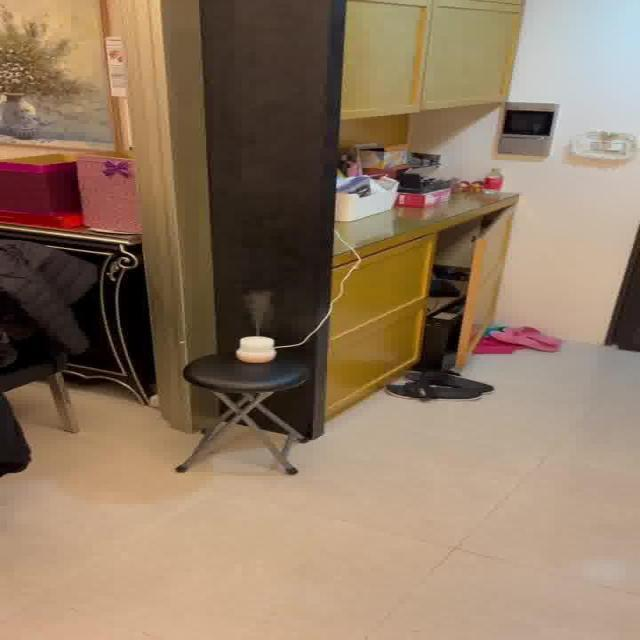fire: (240, 286, 287, 332)
